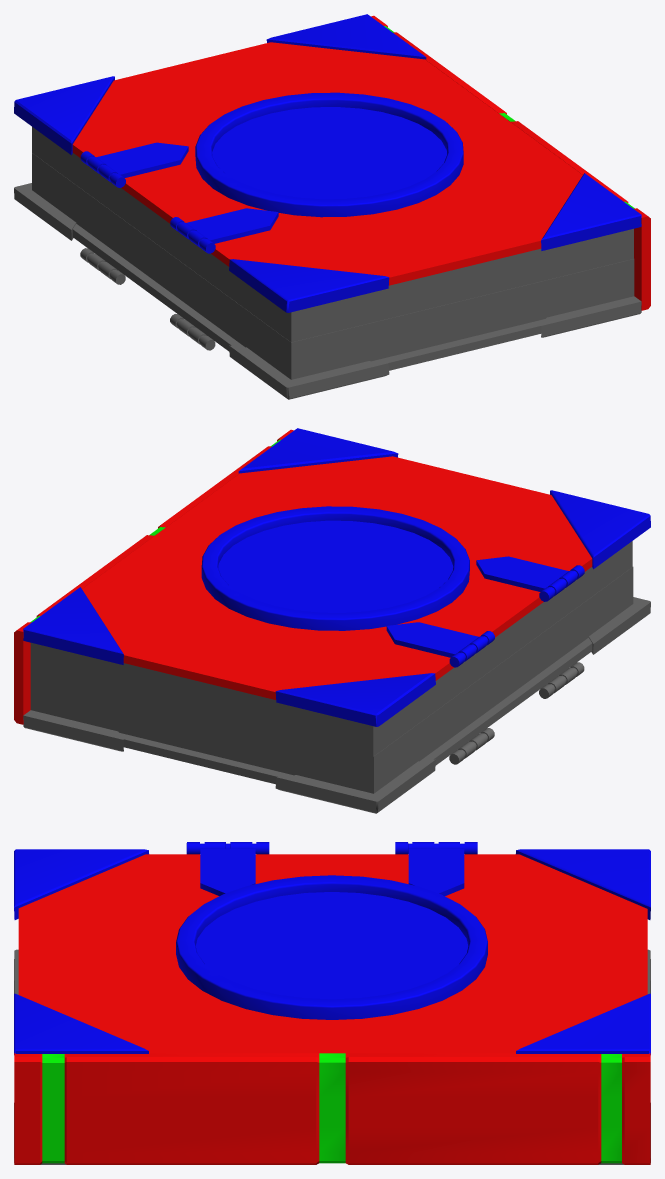
The model's file is Prop_Book_Open_Animation_NEW.fbx.
3 renders of one model, top to bottom at view 1: azimuth 30°, elevation 25°; view 2: azimuth 150°, elevation 25°; view 3: azimuth 270°, elevation 25°, orthographic. The views are drawn at different scales.
Visible parts, largest first — view 1: Cover1, pageFloor, pageBackground, Cover2, Spine; view 2: Cover1, pageFloor, pageBackground, Cover2, Spine; view 3: Cover1, Spine, Cover2.
Boxes of the visible parts, x1,y1,x2,y2 form: Cover1: [14, 14, 641, 312]; pageFloor: [32, 153, 634, 379]; pageBackground: [32, 127, 633, 342]; Cover2: [14, 183, 641, 399]; Spine: [371, 15, 650, 310]; Cover1: [23, 428, 650, 726]; pageFloor: [30, 567, 633, 793]; pageBackground: [30, 541, 632, 756]; Cover2: [23, 597, 650, 813]; Spine: [14, 429, 293, 724]; Cover1: [14, 842, 650, 1054]; Spine: [14, 1053, 650, 1164]; Cover2: [14, 949, 650, 1164].
Size of the model in its own units: 378 by 113 by 485.
